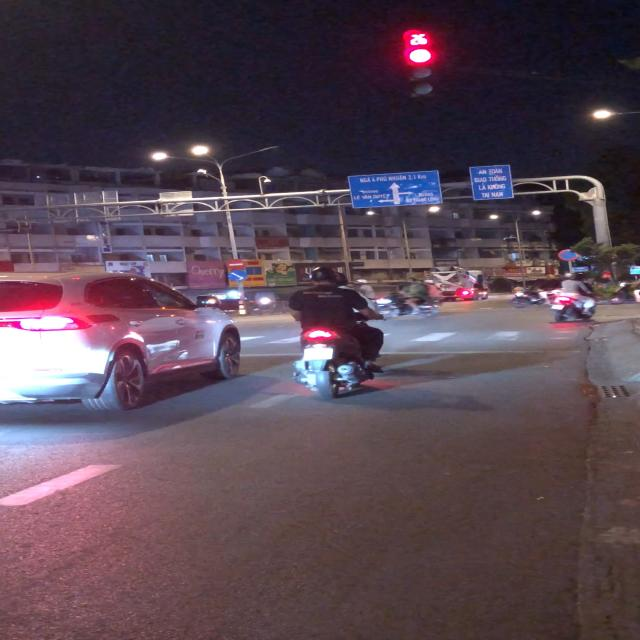Bien bao cam di nguoc chieu: (224, 259, 247, 270)
Bien bao huong phai di vong chuong ngai vat: (226, 270, 248, 282)
